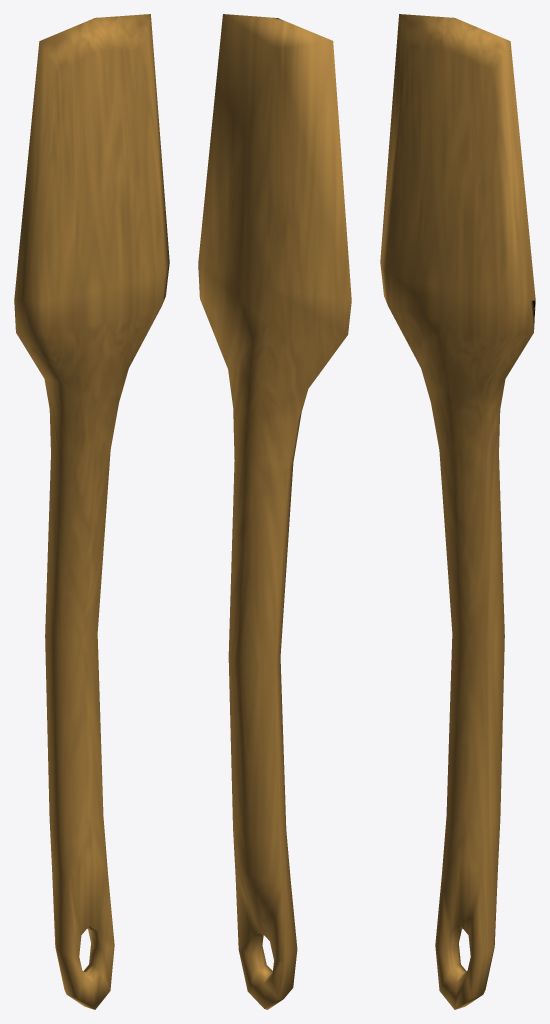
File: ustensils6.glb
3 renders of one model, left to right at view 1: azimuth 30°, elevation 25°; view 2: azimuth 150°, elevation 25°; view 3: azimuth 330°, elevation 25°, orthographic.
Parts seen in each view (by area): view 1: ustensils6; view 2: ustensils6; view 3: ustensils6.
Part boxes in pixels (x1,y1,x2,y2): ustensils6: (14,14,169,1009); ustensils6: (198,14,351,1009); ustensils6: (380,14,535,1009).
Bounding box in the file's own units: 0.0968 × 0.5928 × 0.0481.
Materials: 1 (1 with a texture image).
